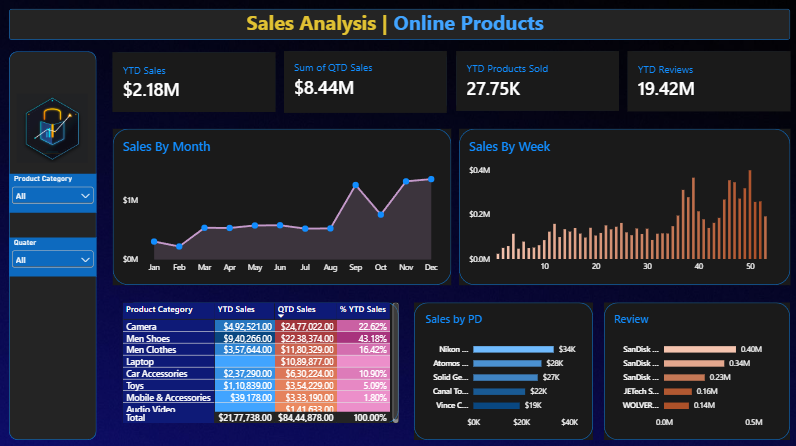

The page's visual inventory and layout, read from the dashboard file:
{"tool":"powerbi","page":{"name":"Page 1","canvas":[1920,1080],"ordinal":0},"visuals":[{"type":"shape","box":[502.2,260,260,95],"z":0},{"type":"shape","box":[335.5,189.4,1250,50],"z":1000},{"type":"shape","box":[501.7,381.7,541.7,250],"z":2000},{"type":"cardVisual","fields":{"Data":["Amazon_Data.YTD Sales"]},"box":[502.1,260,260,95.6],"z":3000},{"type":"textbox","box":[716.3,189.4,488.9,50],"z":4000},{"type":"shape","box":[776.7,258.9,260,95],"z":5000},{"type":"shape","box":[335.5,257.3,140,622],"z":6000},{"type":"shape","box":[1051.1,258.9,260,95],"z":7000},{"type":"areaChart","title":"Sales By Month","fields":{"Category":["Date Table.Month Name"],"Y":["Sum(Amazon_Data.Price(Dollar))"]},"box":[501.7,381.7,541.7,250],"z":8000},{"type":"shape","box":[1325.6,258.9,260,95],"z":9000},{"type":"cardVisual","fields":{"Data":["Sum(Amazon_Data.QTD Sales)"]},"box":[776.7,257.3,260,98],"z":10000},{"type":"cardVisual","fields":{"Data":["Amazon_Data.YTD Products Sold"]},"box":[1051.3,258.7,260,95.3],"z":11000},{"type":"cardVisual","fields":{"Data":["Amazon_Data.YTD Reviews"]},"box":[1325.3,258,260,96],"z":12000},{"type":"shape","box":[1055,381.2,530,250],"z":13000},{"type":"columnChart","title":"Sales By Week","fields":{"Category":["Date Table.Week"],"Y":["Sum(Amazon_Data.Price(Dollar))"]},"box":[1055,382,530,249],"z":14000},{"type":"shape","box":[518.8,660,441.2,192.5],"z":15000},{"type":"pivotTable","title":"Sales By Product Category","fields":{"Rows":["Amazon_Data.Product Category"],"Values":["Amazon_Data.YTD Sales1","Sum(Amazon_Data.QTD Sales)","Amazon_Data.YTD Sales"]},"box":[518.8,660,441.2,192.5],"z":16000},{"type":"shape","box":[983.8,660,286.2,220],"z":17000},{"type":"shape","box":[1287.5,660,297.5,220],"z":18000},{"type":"clusteredBarChart","title":"Sales by PD","fields":{"Category":["Amazon_Data.Product Description"],"Y":["Amazon_Data.YTD Sales"]},"box":[985,660,286.2,220],"z":19000},{"type":"clusteredBarChart","title":"Review","fields":{"Category":["Amazon_Data.Product Description"],"Y":["Amazon_Data.YTD Reviews"]},"box":[1287.5,660,297.5,220],"z":20000},{"type":"slicer","fields":{"Values":["Amazon_Data.Product Category"]},"box":[335.6,453.8,140,62.5],"z":21000},{"type":"slicer","fields":{"Values":["Date Table.Quater"]},"box":[335,556.2,140,62.5],"z":22000},{"type":"image","box":[346.2,326.2,118.8,110],"z":23000}]}

Visuals, with their boxes in screenshot pixels (x1, y1, x2, y2), scaled from the page's 1920x1080 canvas onto the 796x446 screenshot:
shape: 208:107:316:147
shape: 139:78:657:99
shape: 208:158:433:261
cardVisual - Amazon_Data.YTD Sales: 208:107:316:147
textbox: 297:78:500:99
shape: 322:107:430:146
shape: 139:106:197:363
shape: 436:107:544:146
"Sales By Month" areaChart: 208:158:433:261
shape: 550:107:657:146
cardVisual - Sum(Amazon_Data.QTD Sales): 322:106:430:147
cardVisual - Amazon_Data.YTD Products Sold: 436:107:544:146
cardVisual - Amazon_Data.YTD Reviews: 549:107:657:146
shape: 437:157:657:261
"Sales By Week" columnChart: 437:158:657:261
shape: 215:273:398:352
"Sales By Product Category" pivotTable: 215:273:398:352
shape: 408:273:527:363
shape: 534:273:657:363
"Sales by PD" clusteredBarChart: 408:273:527:363
"Review" clusteredBarChart: 534:273:657:363
slicer - Amazon_Data.Product Category: 139:187:197:213
slicer - Date Table.Quater: 139:230:197:256
image: 144:135:193:180
